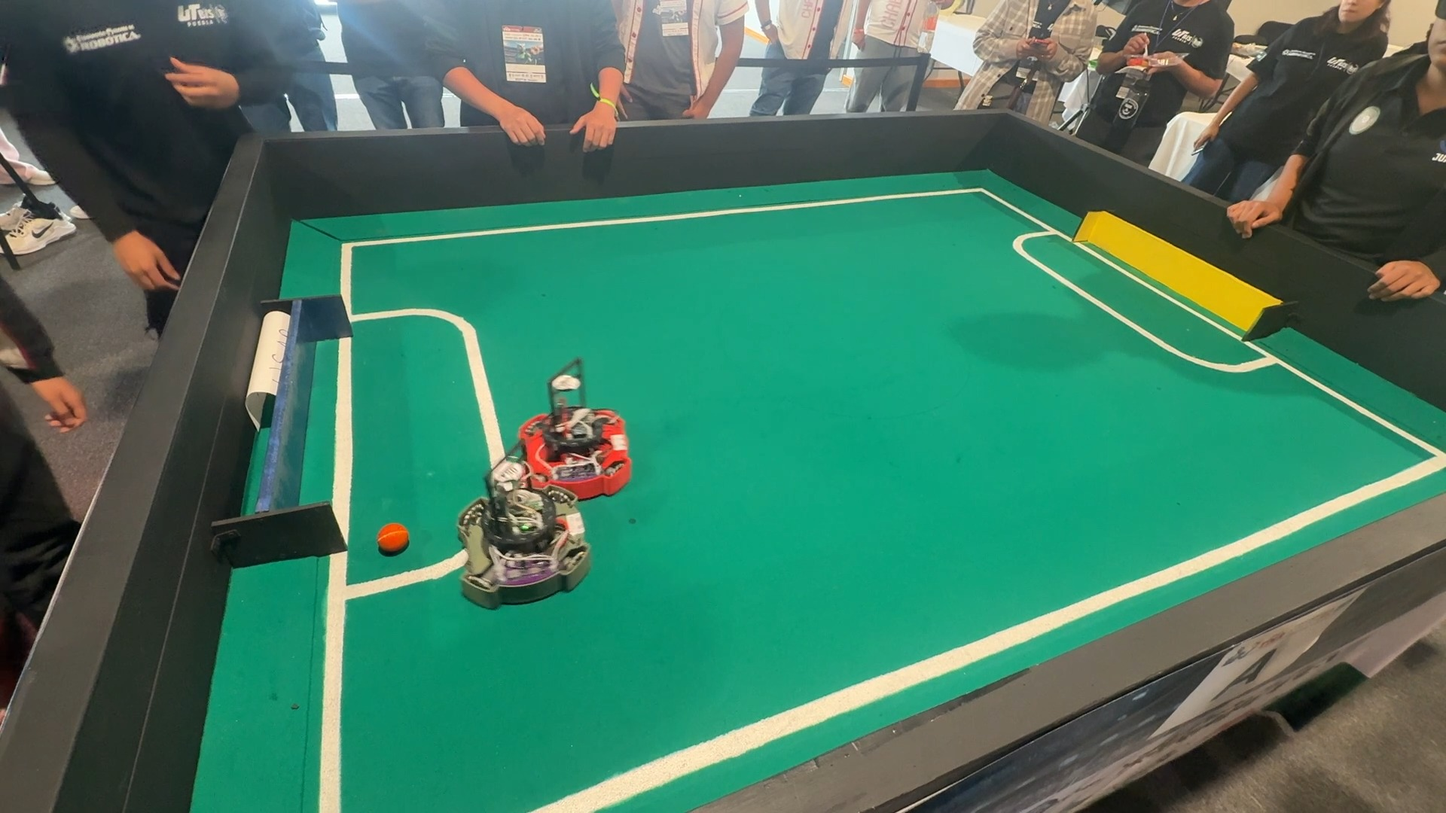Robot: (454, 449, 598, 624), (519, 363, 636, 504)
pelota: (376, 524, 414, 558)
